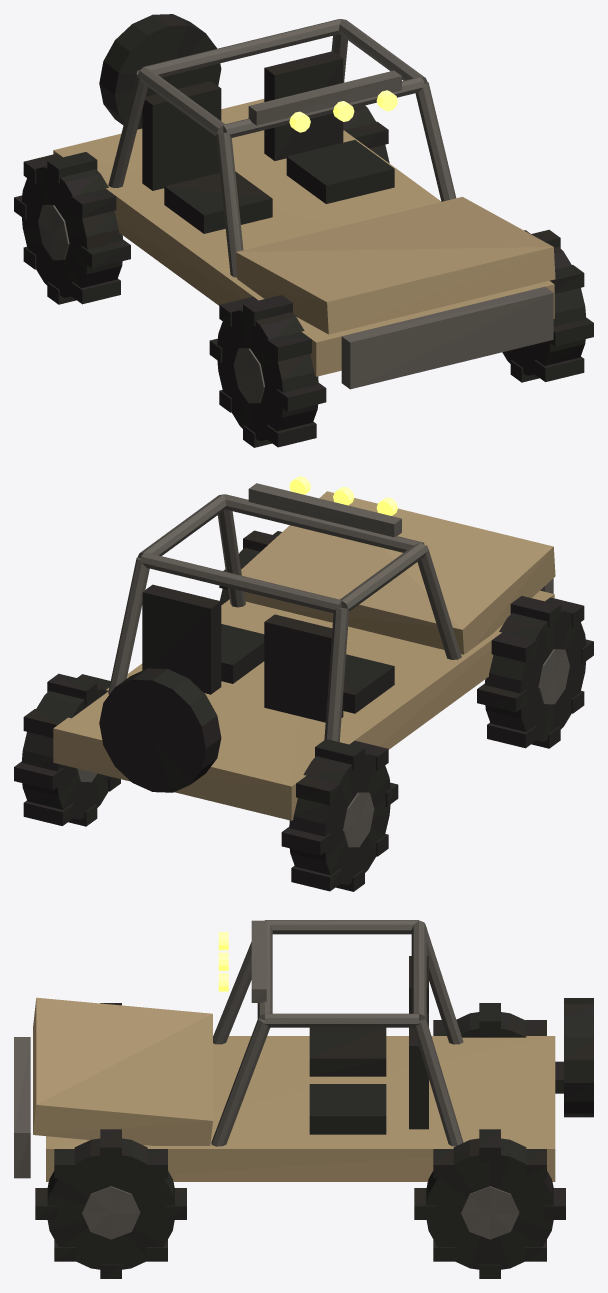
Rendered from desert_recon_buggy.glb.
The picture shows the model from 3 angles, top to bottom: view 1: azimuth 30°, elevation 25°; view 2: azimuth 150°, elevation 25°; view 3: azimuth 270°, elevation 25°; orthographic projection. The views are drawn at different scales.
Parts seen in each view (by area): view 1: Hood, Chassis, Seats, Wheels_trim, Treads, RollCage, NoseArmor, SpareWheel, Lightbar, Wheels_metal, Lamps; view 2: Chassis, Hood, Wheels_trim, Seats, RollCage, Treads, SpareWheel, Lightbar, Wheels_metal, Lamps; view 3: Chassis, Hood, Wheels_trim, RollCage, Seats, Treads, Wheels_metal, SpareWheel, NoseArmor, Lightbar, Lamps.
Boxes of the visible parts, x1,y1,x2,y2 form: Hood: (236, 197, 555, 334); Chassis: (53, 99, 554, 376); Seats: (142, 51, 394, 233); Wheels_trim: (21, 105, 586, 440); Treads: (14, 121, 593, 447); RollCage: (108, 19, 456, 277); NoseArmor: (341, 286, 553, 389); SpareWheel: (99, 14, 221, 129); Lightbar: (248, 70, 401, 125); Wheels_metal: (38, 205, 264, 403); Lamps: (289, 90, 397, 132); Chassis: (53, 590, 554, 820); Hood: (241, 491, 555, 654); Wheels_trim: (21, 547, 586, 884); Seats: (142, 584, 394, 722); RollCage: (108, 494, 461, 741); Treads: (14, 530, 593, 891); SpareWheel: (99, 668, 221, 792); Lightbar: (248, 483, 401, 537); Wheels_metal: (76, 649, 569, 847); Lamps: (289, 476, 397, 515); Chassis: (46, 1036, 555, 1181); Hood: (33, 997, 212, 1145); Wheels_trim: (47, 1012, 553, 1269); RollCage: (211, 920, 463, 1146); Seats: (309, 956, 428, 1134); Treads: (35, 1003, 565, 1278); Wheels_metal: (82, 1186, 519, 1239); SpareWheel: (564, 998, 593, 1117); NoseArmor: (14, 1037, 30, 1178); Lightbar: (251, 920, 266, 1002); Lamps: (218, 932, 228, 991).
Size of the model in its own units: 2.05 by 1.67 by 3.48.
